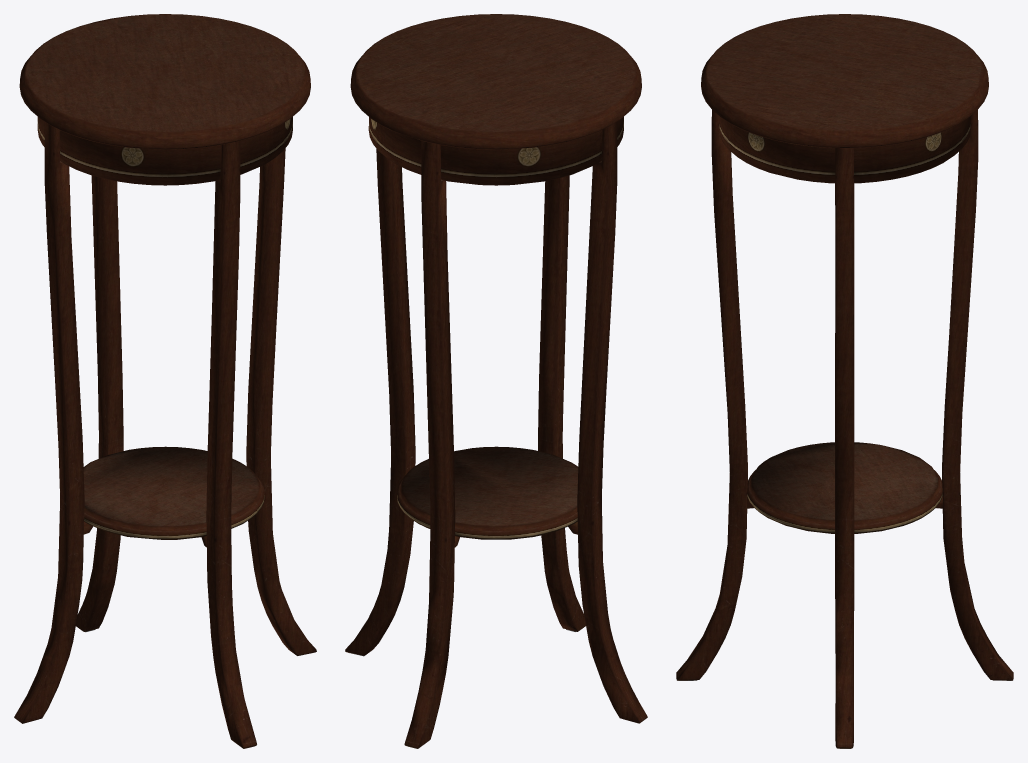
File: side_table_tall_01.glb
3 renders of one model, left to right at view 1: azimuth 30°, elevation 25°; view 2: azimuth 150°, elevation 25°; view 3: azimuth 270°, elevation 25°, orthographic.
Parts seen in each view (by area): view 1: side_table_tall_01; view 2: side_table_tall_01; view 3: side_table_tall_01.
Boxes of the visible parts, x1,y1,x2,y2 form: side_table_tall_01: (14,14,316,748); side_table_tall_01: (345,14,647,748); side_table_tall_01: (676,14,1013,748).
Bounding box in the file's own units: 0.3837 × 0.7611 × 0.3837.
Materials: 1 (1 with a texture image).
